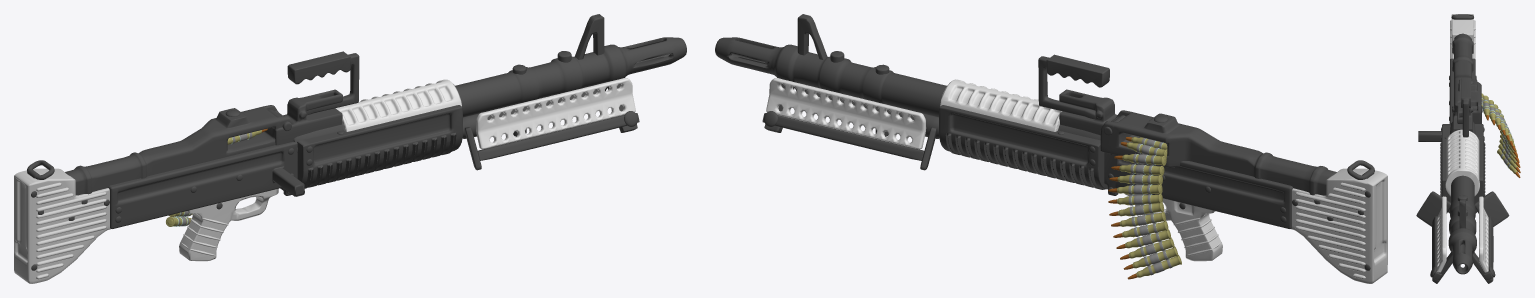
The picture shows the model from 3 angles, left to right: view 1: azimuth 30°, elevation 25°; view 2: azimuth 150°, elevation 25°; view 3: azimuth 270°, elevation 25°; orthographic projection. The views are drawn at different scales.
Parts seen in each view (by area): view 1: My_M60_machinegun_25; view 2: My_M60_machinegun_25; view 3: My_M60_machinegun_25.
Part boxes in pixels (left/top/right/bottom): My_M60_machinegun_25: left=14, top=14, right=686, bottom=283; My_M60_machinegun_25: left=715, top=14, right=1387, bottom=283; My_M60_machinegun_25: left=1416, top=14, right=1520, bottom=283.
Size of the model in its own units: 73.87 by 17.83 by 13.91.
